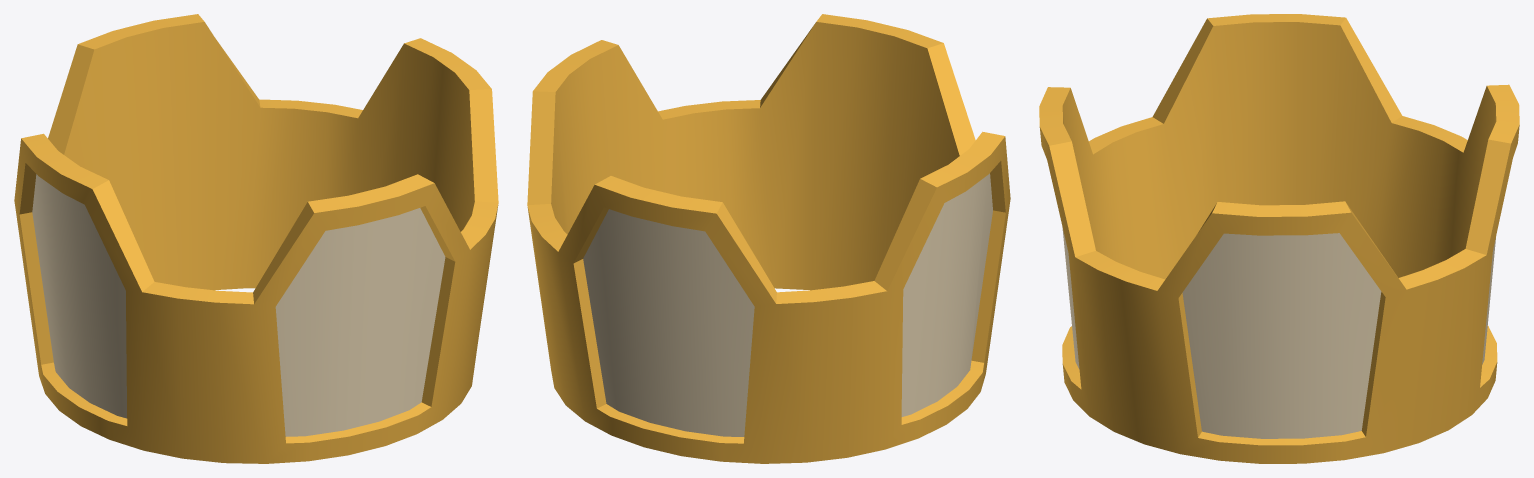
File: Crown A Multi.fbx
3 views of the same model, side by side, from view 1: azimuth 30°, elevation 25°; view 2: azimuth 150°, elevation 25°; view 3: azimuth 270°, elevation 25° (orthographic).
Parts seen in each view (by area): view 1: Crown A; view 2: Crown A; view 3: Crown A.
Boxes of the visible parts, <box> form: Crown A: <box>14,14,498,463</box>; Crown A: <box>527,14,1010,463</box>; Crown A: <box>1039,14,1519,463</box>.
Size of the model in its own units: 0.561 by 0.334 by 0.561.
